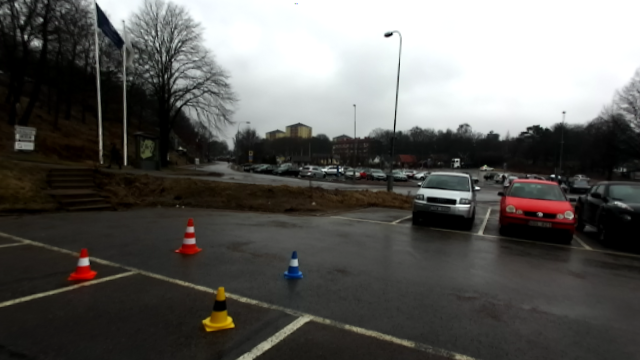blue: (281, 247, 304, 278)
orange: (70, 249, 95, 280)
orange2: (174, 216, 202, 255)
yellow: (202, 284, 236, 332)
